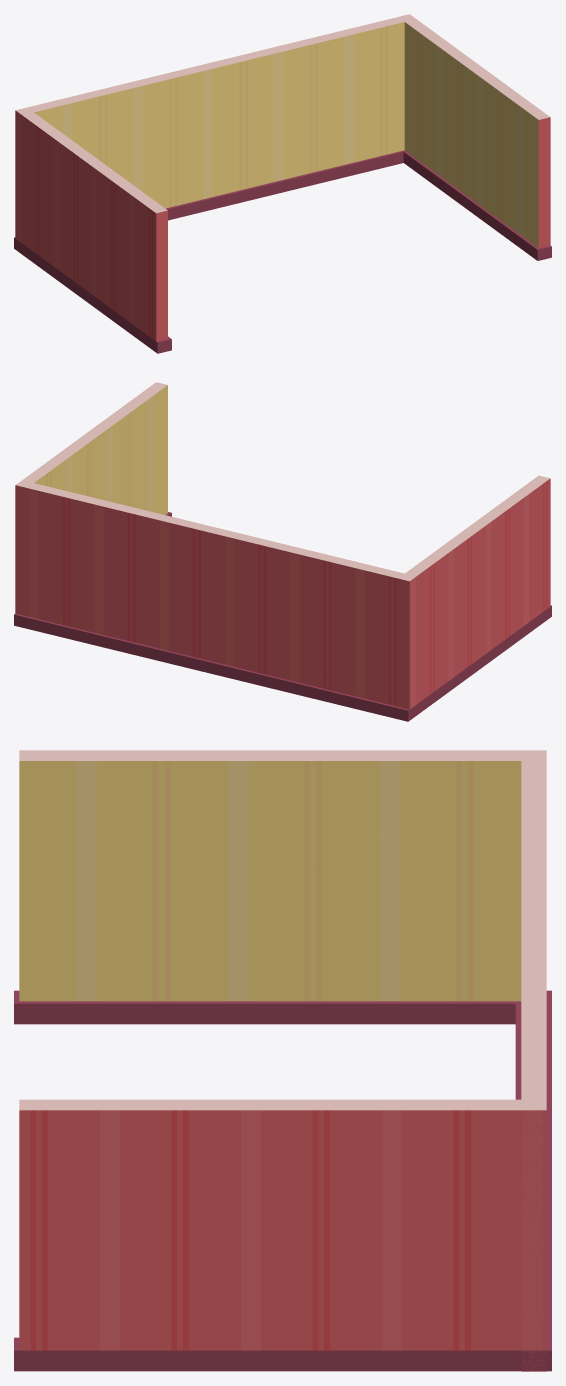
Rendered from Room01_Wall_geo.fbx.
3 views of the same model, one above another, from view 1: azimuth 30°, elevation 25°; view 2: azimuth 150°, elevation 25°; view 3: azimuth 270°, elevation 25° (orthographic). The views are drawn at different scales.
Visible parts, largest first — view 1: Room01_Wall_geo; view 2: Room01_Wall_geo; view 3: Room01_Wall_geo.
Boxes of the visible parts, x1=… form: Room01_Wall_geo: x1=14, y1=14, x2=551, y2=353; Room01_Wall_geo: x1=14, y1=382, x2=551, y2=721; Room01_Wall_geo: x1=14, y1=750, x2=551, y2=1371.
Bounding box in the file's own units: 6.03 × 3.81 × 2.04.
